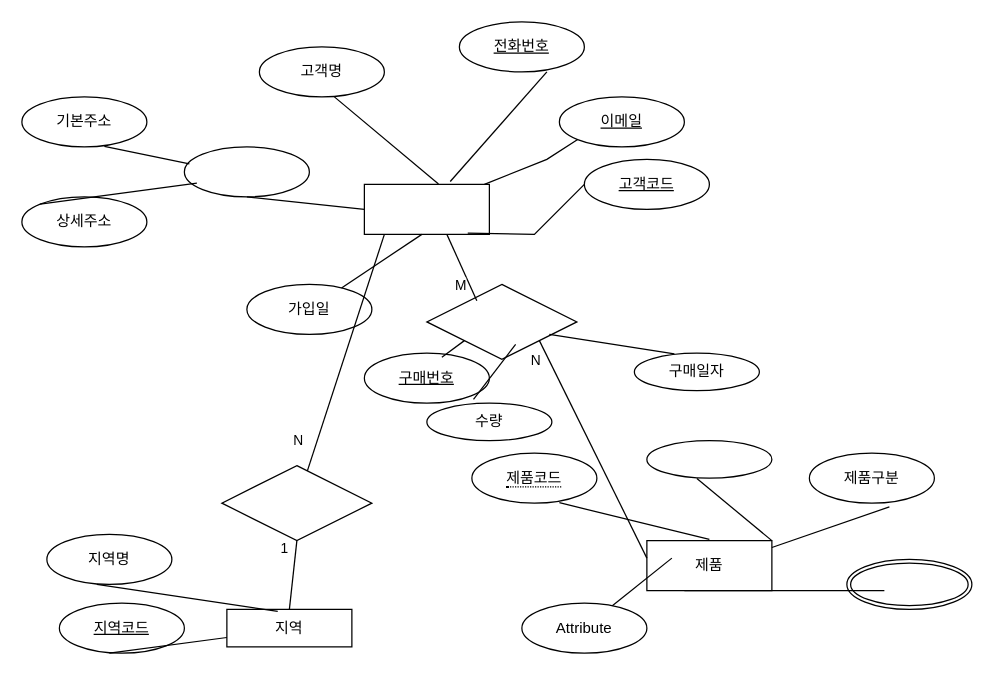
This 994x676 diagram has some shape labels left out. Here are the shapes that lost their labels. From the top down, the centre of each, then its label:
At pixel 246 171: "주소".
At pixel 426 208: "고객".
At pixel 501 321: "구매".
At pixel 709 458: "제품명".
At pixel 296 502: "관리".
At pixel 909 583: "제품색상".
